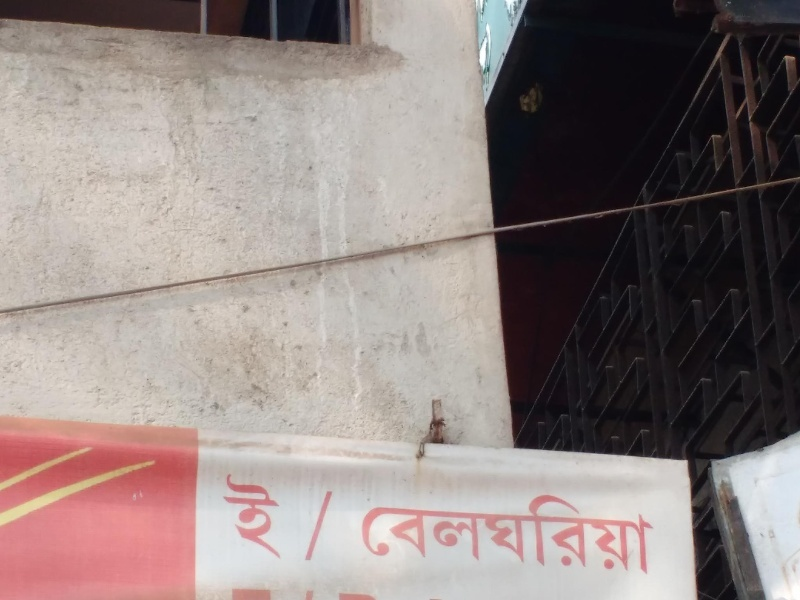text: (225, 467, 240, 568), (241, 467, 256, 568), (257, 467, 272, 568), (273, 467, 288, 568), (289, 467, 304, 568), (305, 467, 320, 568), (321, 467, 336, 568), (337, 467, 352, 568), (369, 488, 384, 577), (385, 488, 400, 577), (401, 488, 416, 577), (417, 488, 432, 577), (433, 488, 448, 577), (449, 488, 464, 577), (465, 488, 480, 577), (481, 488, 496, 577), (497, 488, 512, 577), (513, 488, 528, 577), (529, 488, 544, 577), (545, 488, 560, 577), (561, 488, 576, 577), (577, 488, 592, 577), (593, 488, 608, 577), (609, 488, 624, 577), (625, 488, 640, 577), (641, 488, 656, 577), (354, 488, 368, 577), (217, 467, 224, 568), (657, 488, 658, 577)
